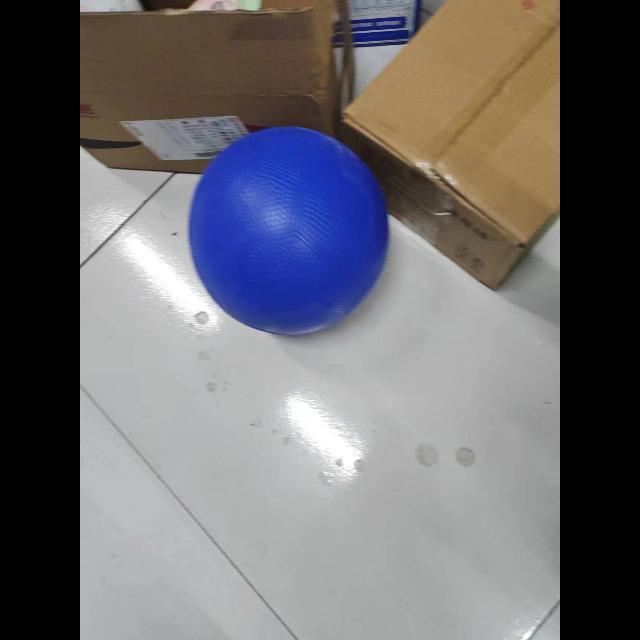B: (182, 122, 396, 338)
